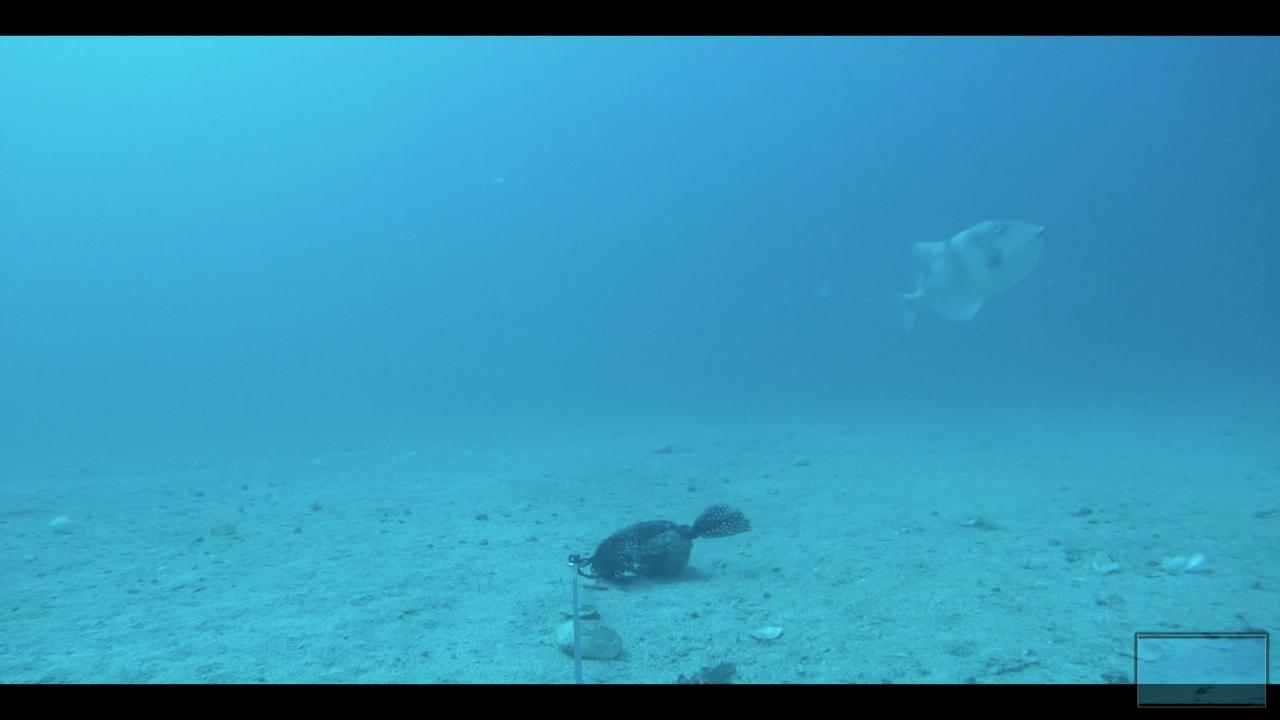balistes: (866, 210, 1046, 339)
